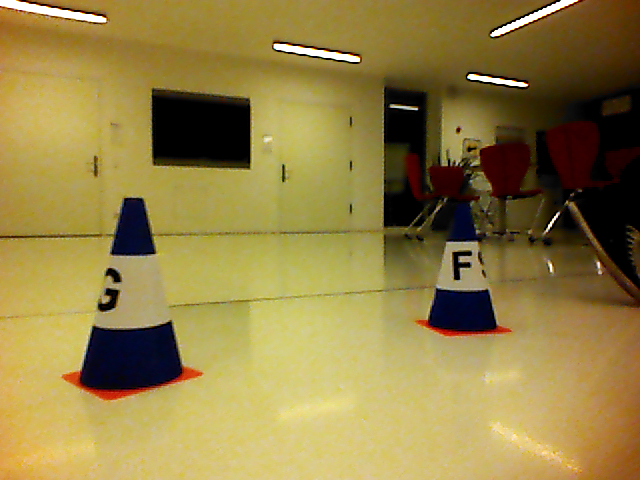bluecone: (77, 198, 183, 391), (428, 205, 499, 333)
